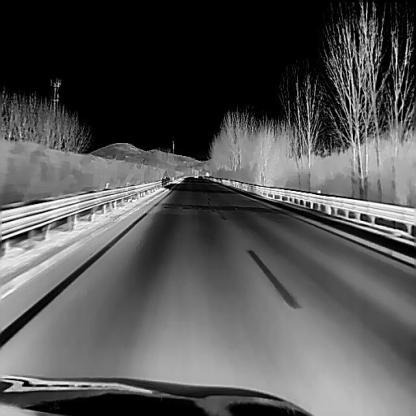car: (193, 168, 198, 177)
